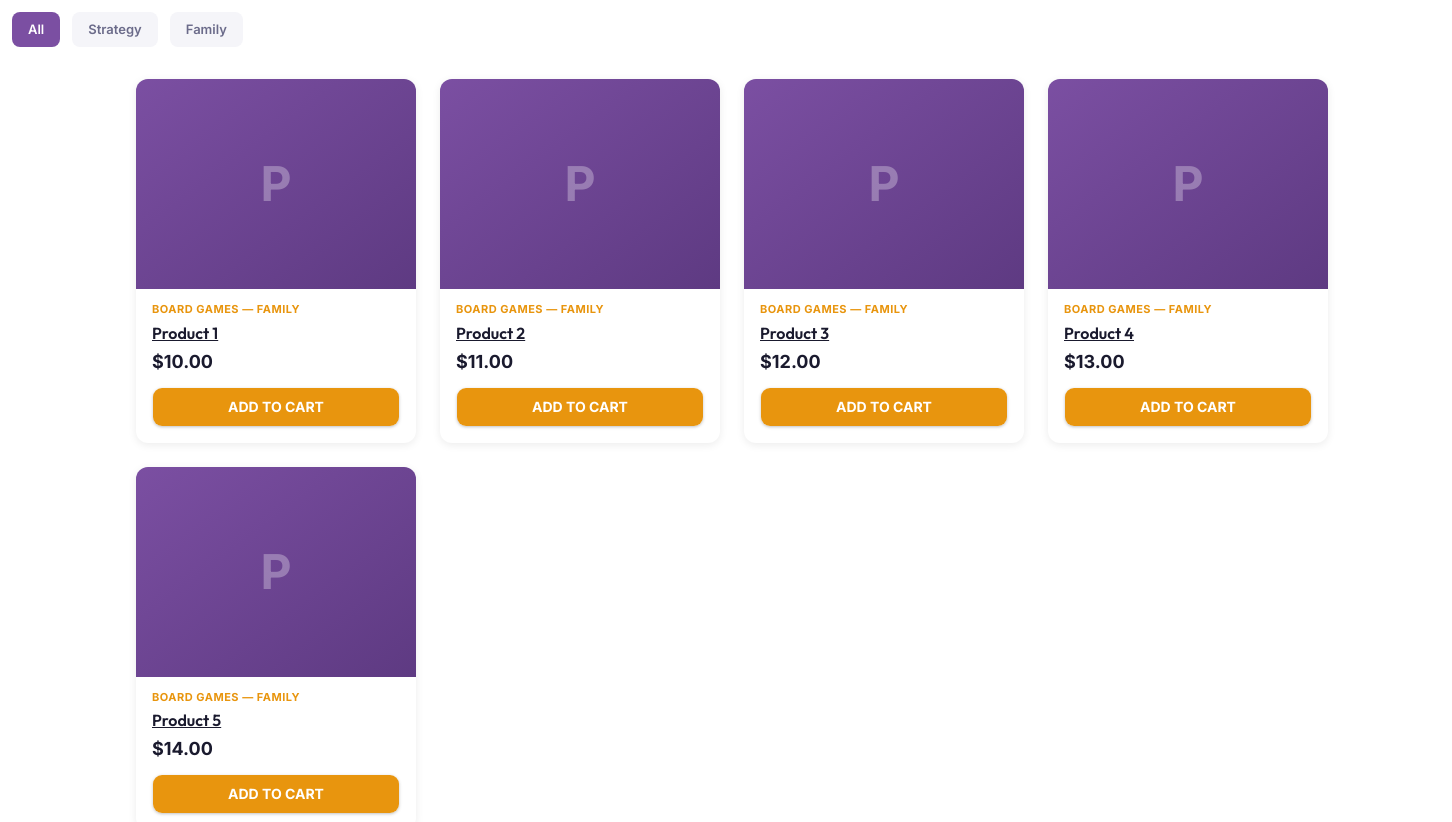
Test: CategoryProductGrid › should show contextual empty state when filter yields zero results
Expected: the number of links "Product 1" is 5, left=152, top=322, right=218, bottom=342; left=456, top=322, right=525, bottom=342; left=760, top=322, right=829, bottom=342; left=1064, top=322, right=1134, bottom=342; left=152, top=710, right=221, bottom=730
Note: Click "Strategy" chip (which has 0 products)
Click the button "Strategy".
click(115, 30)  # box left=72, top=12, right=158, bottom=47
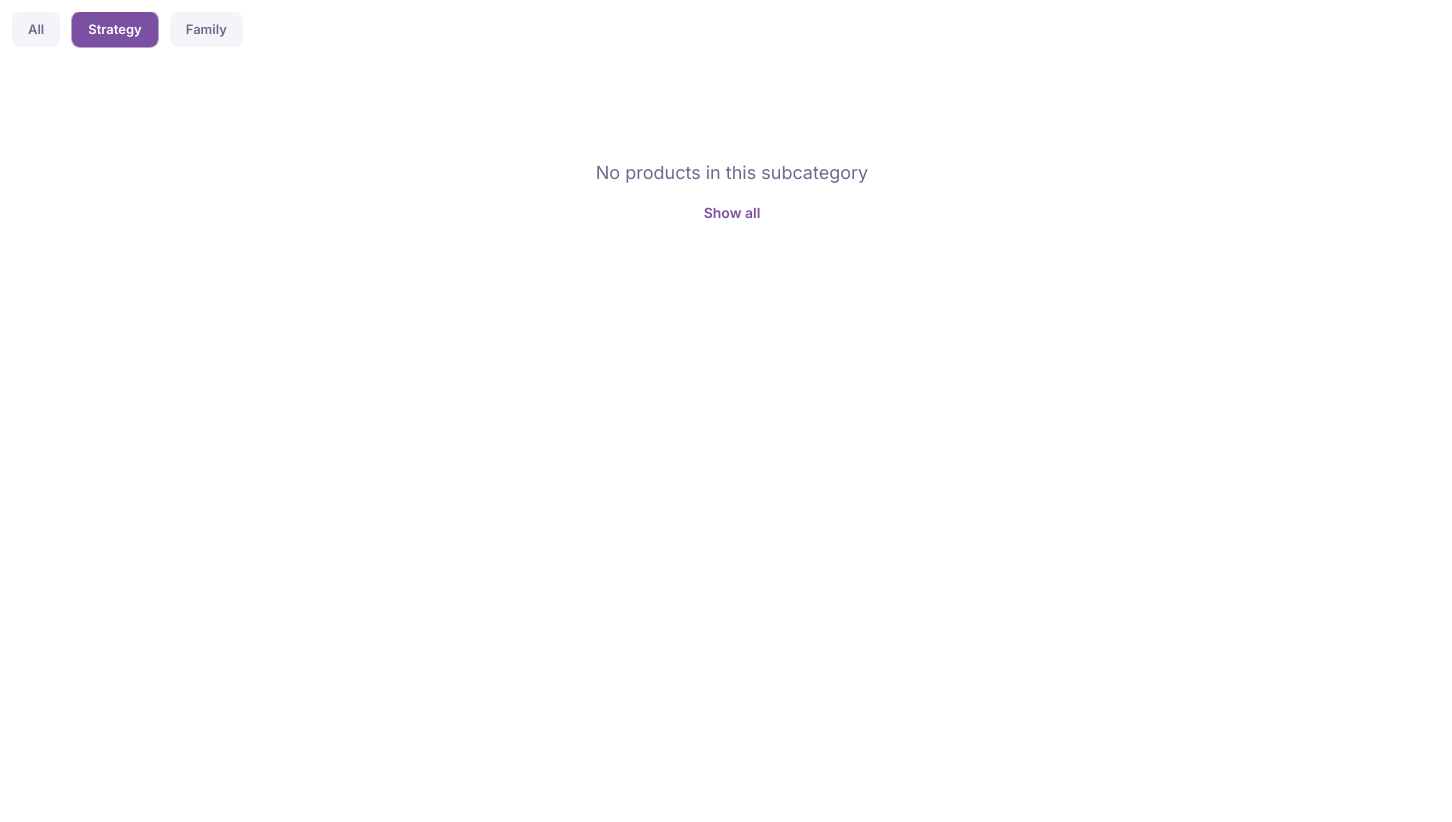
Expected: the text "No products in this subcategory" is shown, left=596, top=159, right=868, bottom=187
Expected: the button "Show all" is shown, left=704, top=203, right=760, bottom=223
